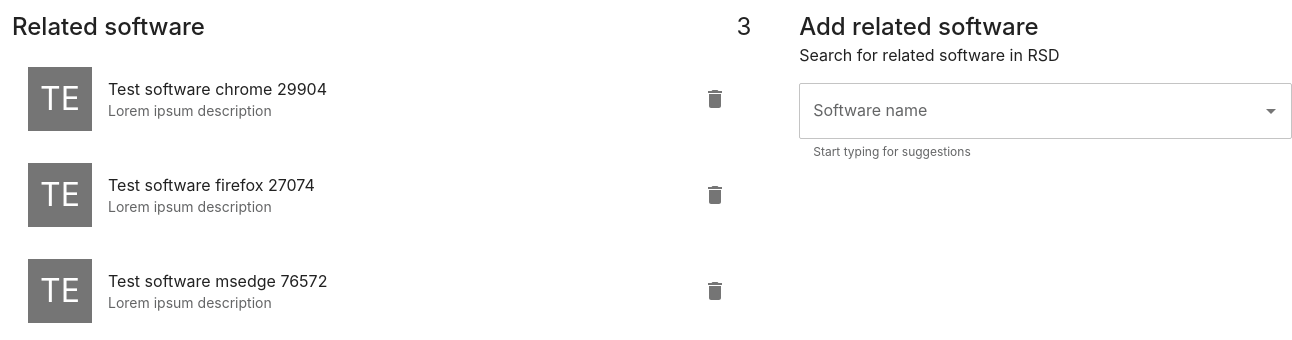
Scenario: frontend/components/projects/edit/related-software/index.tsx › can remove related software
# delete item
Click the button named "delete" in the row of "Test software chrome 29904". click: x=715, y=99
box: [695,79,735,119]
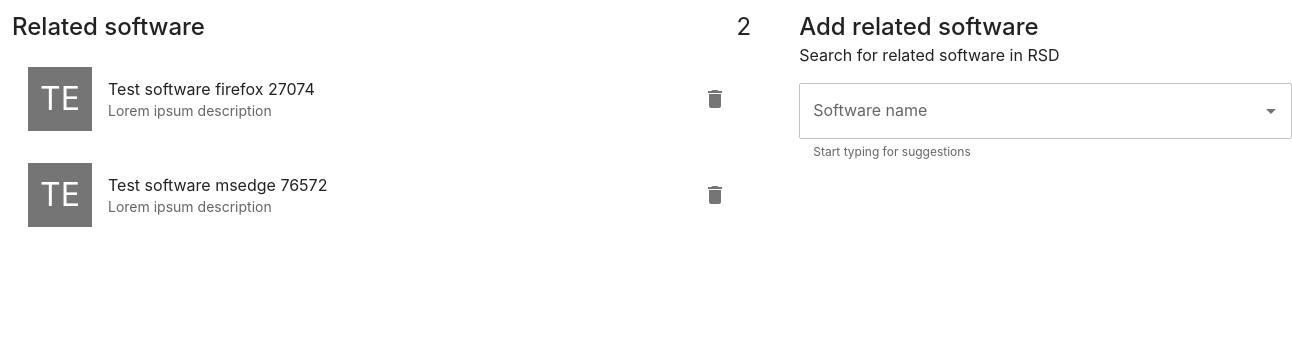
Check: the number of list items with test id "related-software-item" is 2, box [12,51,751,147]; [12,147,751,243]
